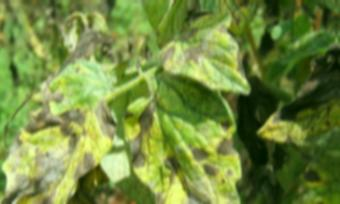Tomato Early blight leaf: (0, 63, 128, 204), (129, 74, 236, 204), (253, 35, 340, 148), (159, 10, 252, 88)
